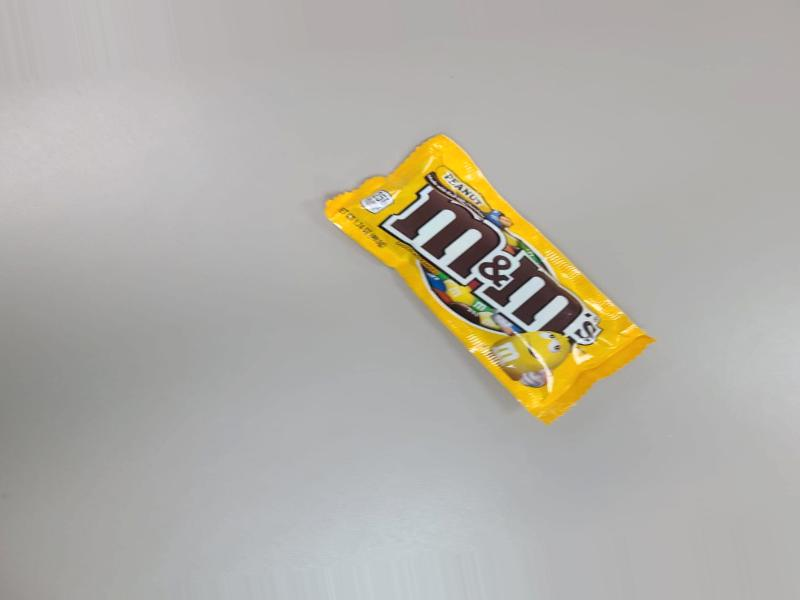m&m: (334, 121, 616, 433)
